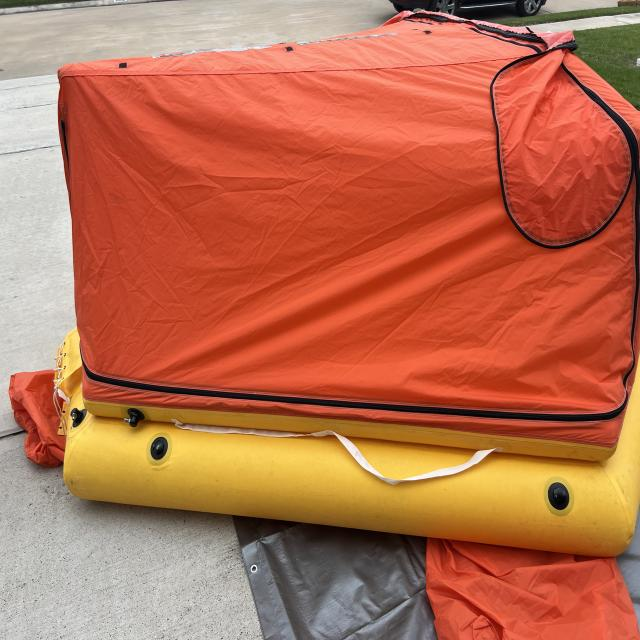Multi-person_life_raft: (8, 9, 640, 639)
